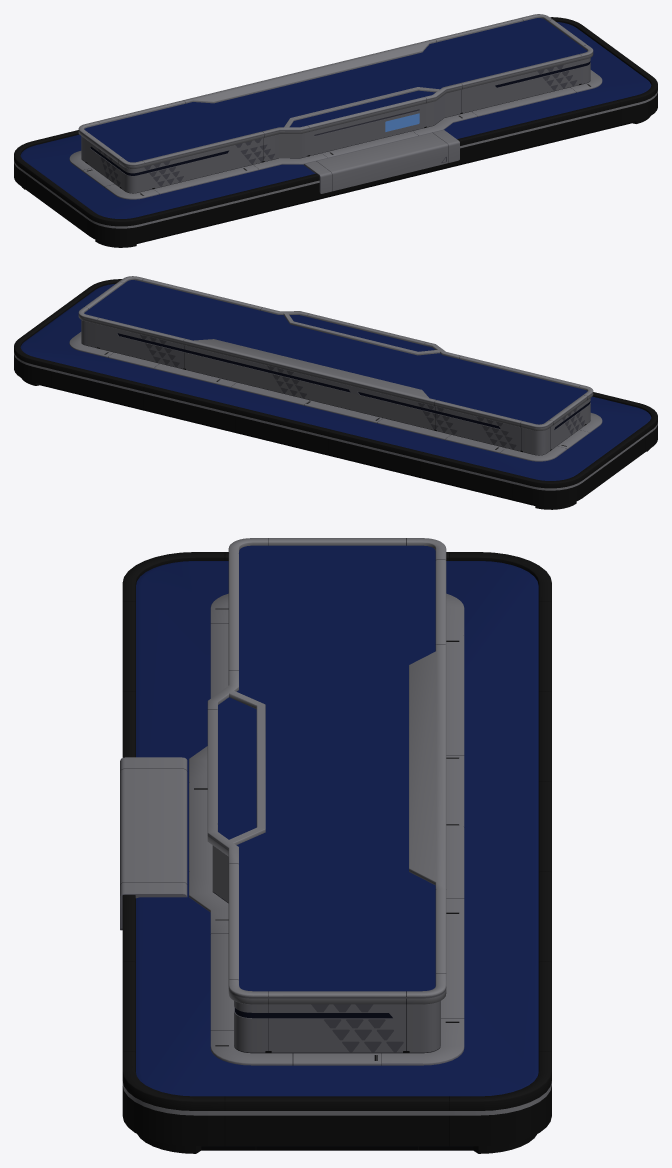
File: W_O_Flowerbed_001_a_L0.fbx
3 views of the same model, one above another, from view 1: azimuth 30°, elevation 25°; view 2: azimuth 150°, elevation 25°; view 3: azimuth 270°, elevation 25° (orthographic). The views are drawn at different scales.
Visible parts, largest first — view 1: W_O_Flowerbed_001_a_L0; view 2: W_O_Flowerbed_001_a_L0; view 3: W_O_Flowerbed_001_a_L0.
Part boxes in pixels (x1,y1,x2,y2): W_O_Flowerbed_001_a_L0: (14,14,657,247); W_O_Flowerbed_001_a_L0: (14,276,657,509); W_O_Flowerbed_001_a_L0: (120,538,551,1153).
Bounding box in the file's own units: 10 × 1 × 3.32.
